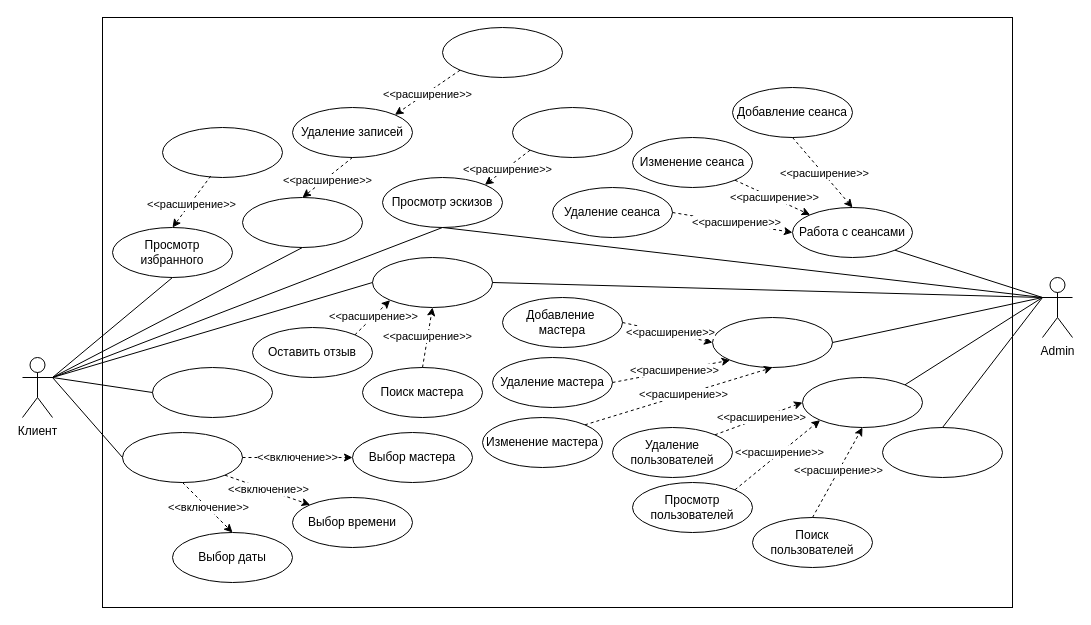
This 1091x625 diagram has some shape labels left out. The centre of each missing label's shape, as x and y in pixels:
"Авторизация" goes at point 942,452.
"Авторизация/регистрация" goes at point 212,392.
"Добавление в избранное" goes at point 502,52.
"Запись на сеанс" goes at point 182,457.
"Просмотр личных записей" goes at point 302,222.
"Просмотр мастеров" goes at point 432,282.
"Работа с мастерами" goes at point 772,342.
"Работа с пользователями" goes at point 862,402.
"Сортировка по стилю" goes at point 572,132.
"Удаление из избранного" goes at point 222,152.
